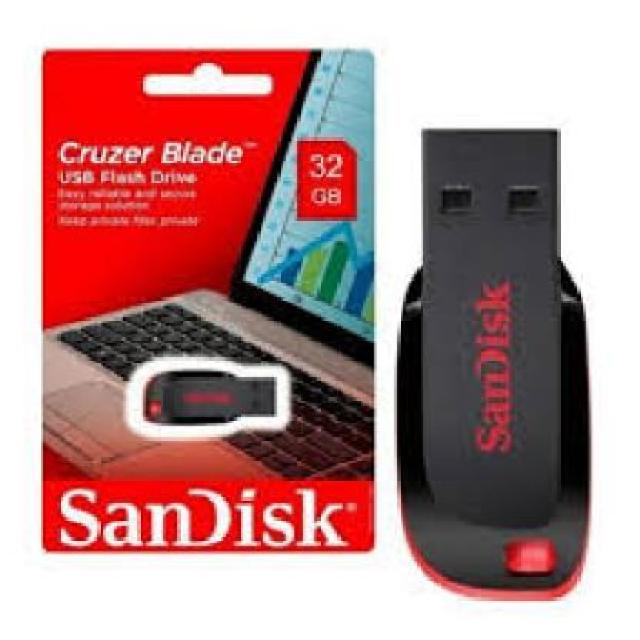Flashdisk: (392, 124, 593, 604), (139, 366, 279, 428)
